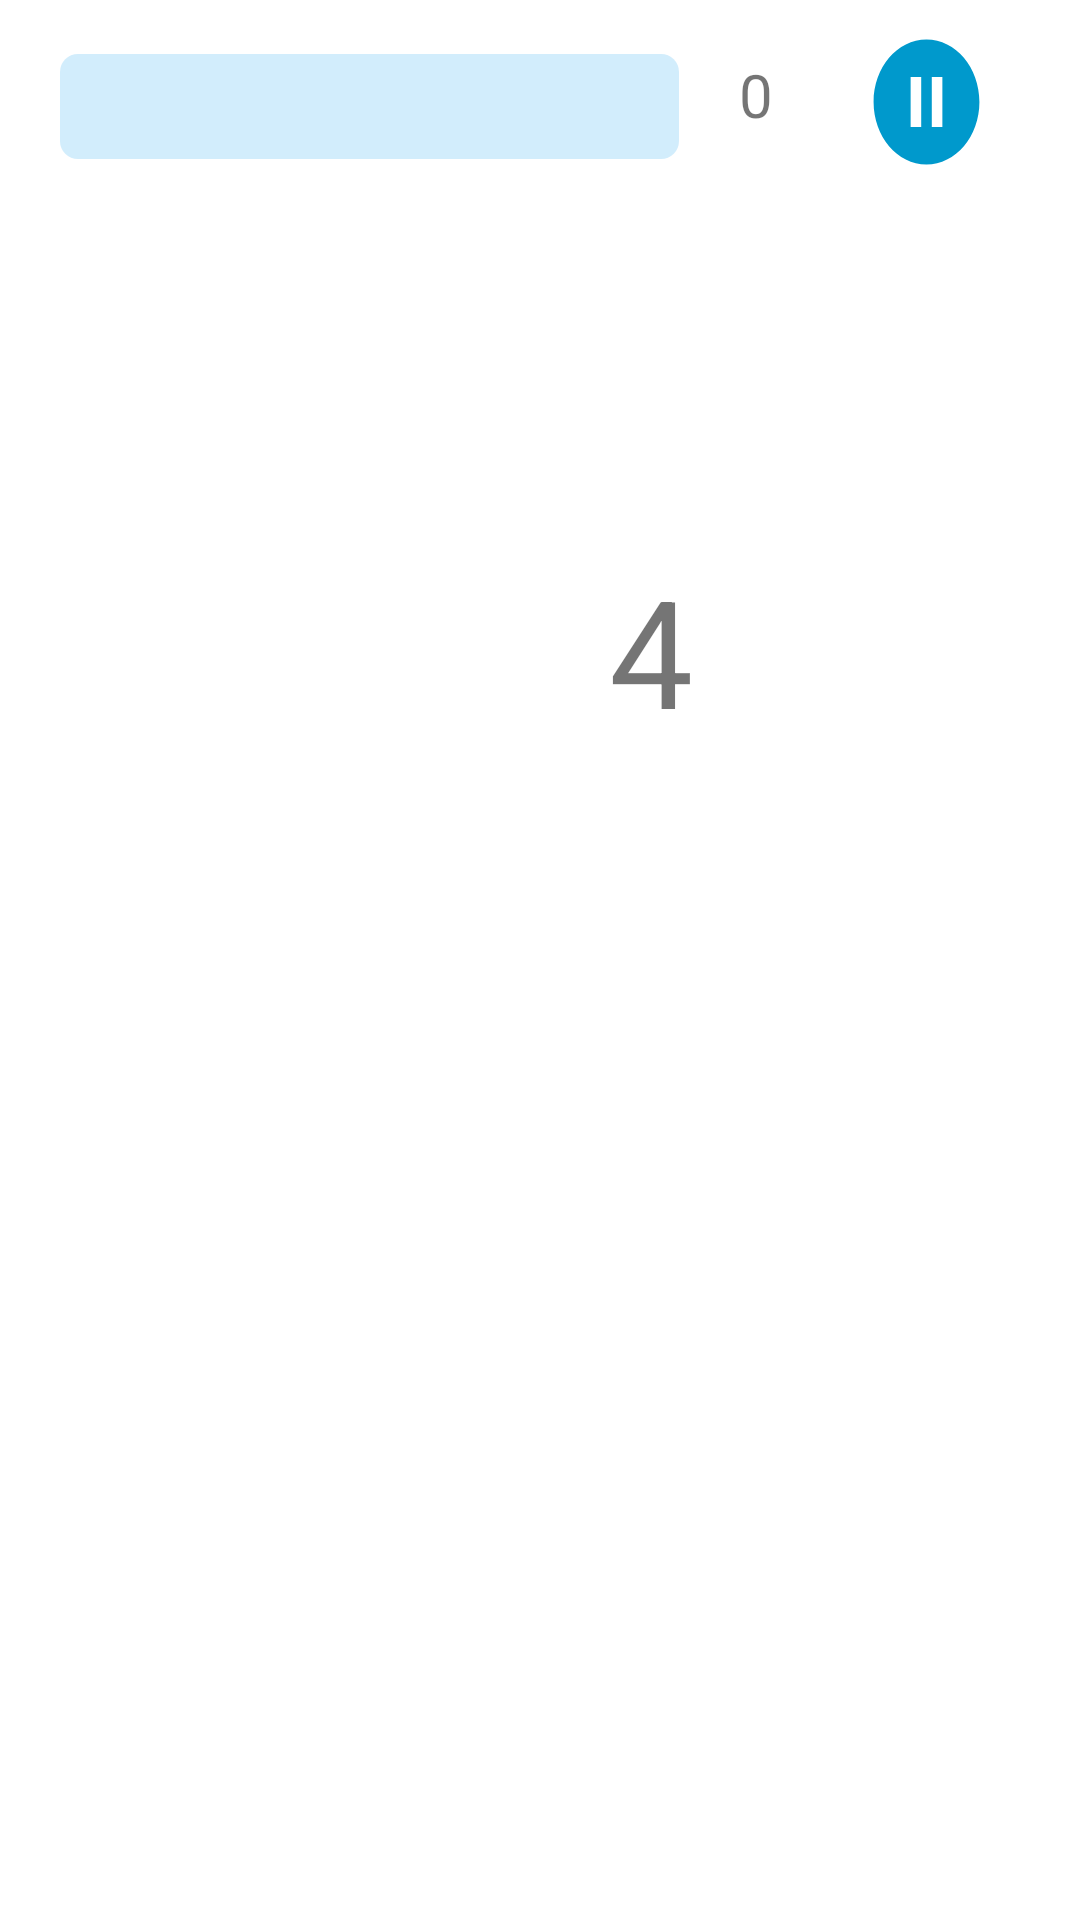

Icon bounding boxes for this 1080*1920 phone screenshot, format bbox=[x1, y1, x2, y2]:
pause circle: bbox=[873, 39, 980, 165]
